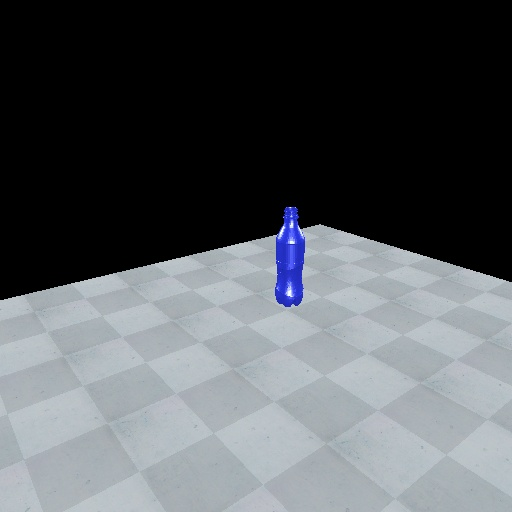bottle: (272, 204, 308, 308)
